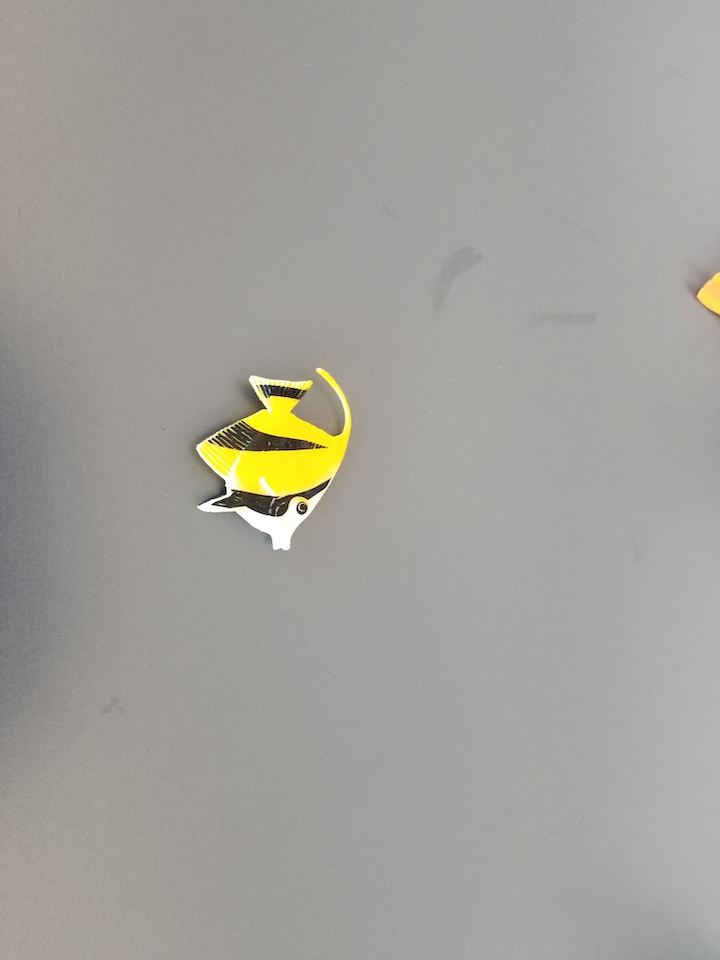danger: (193, 367, 356, 553)
